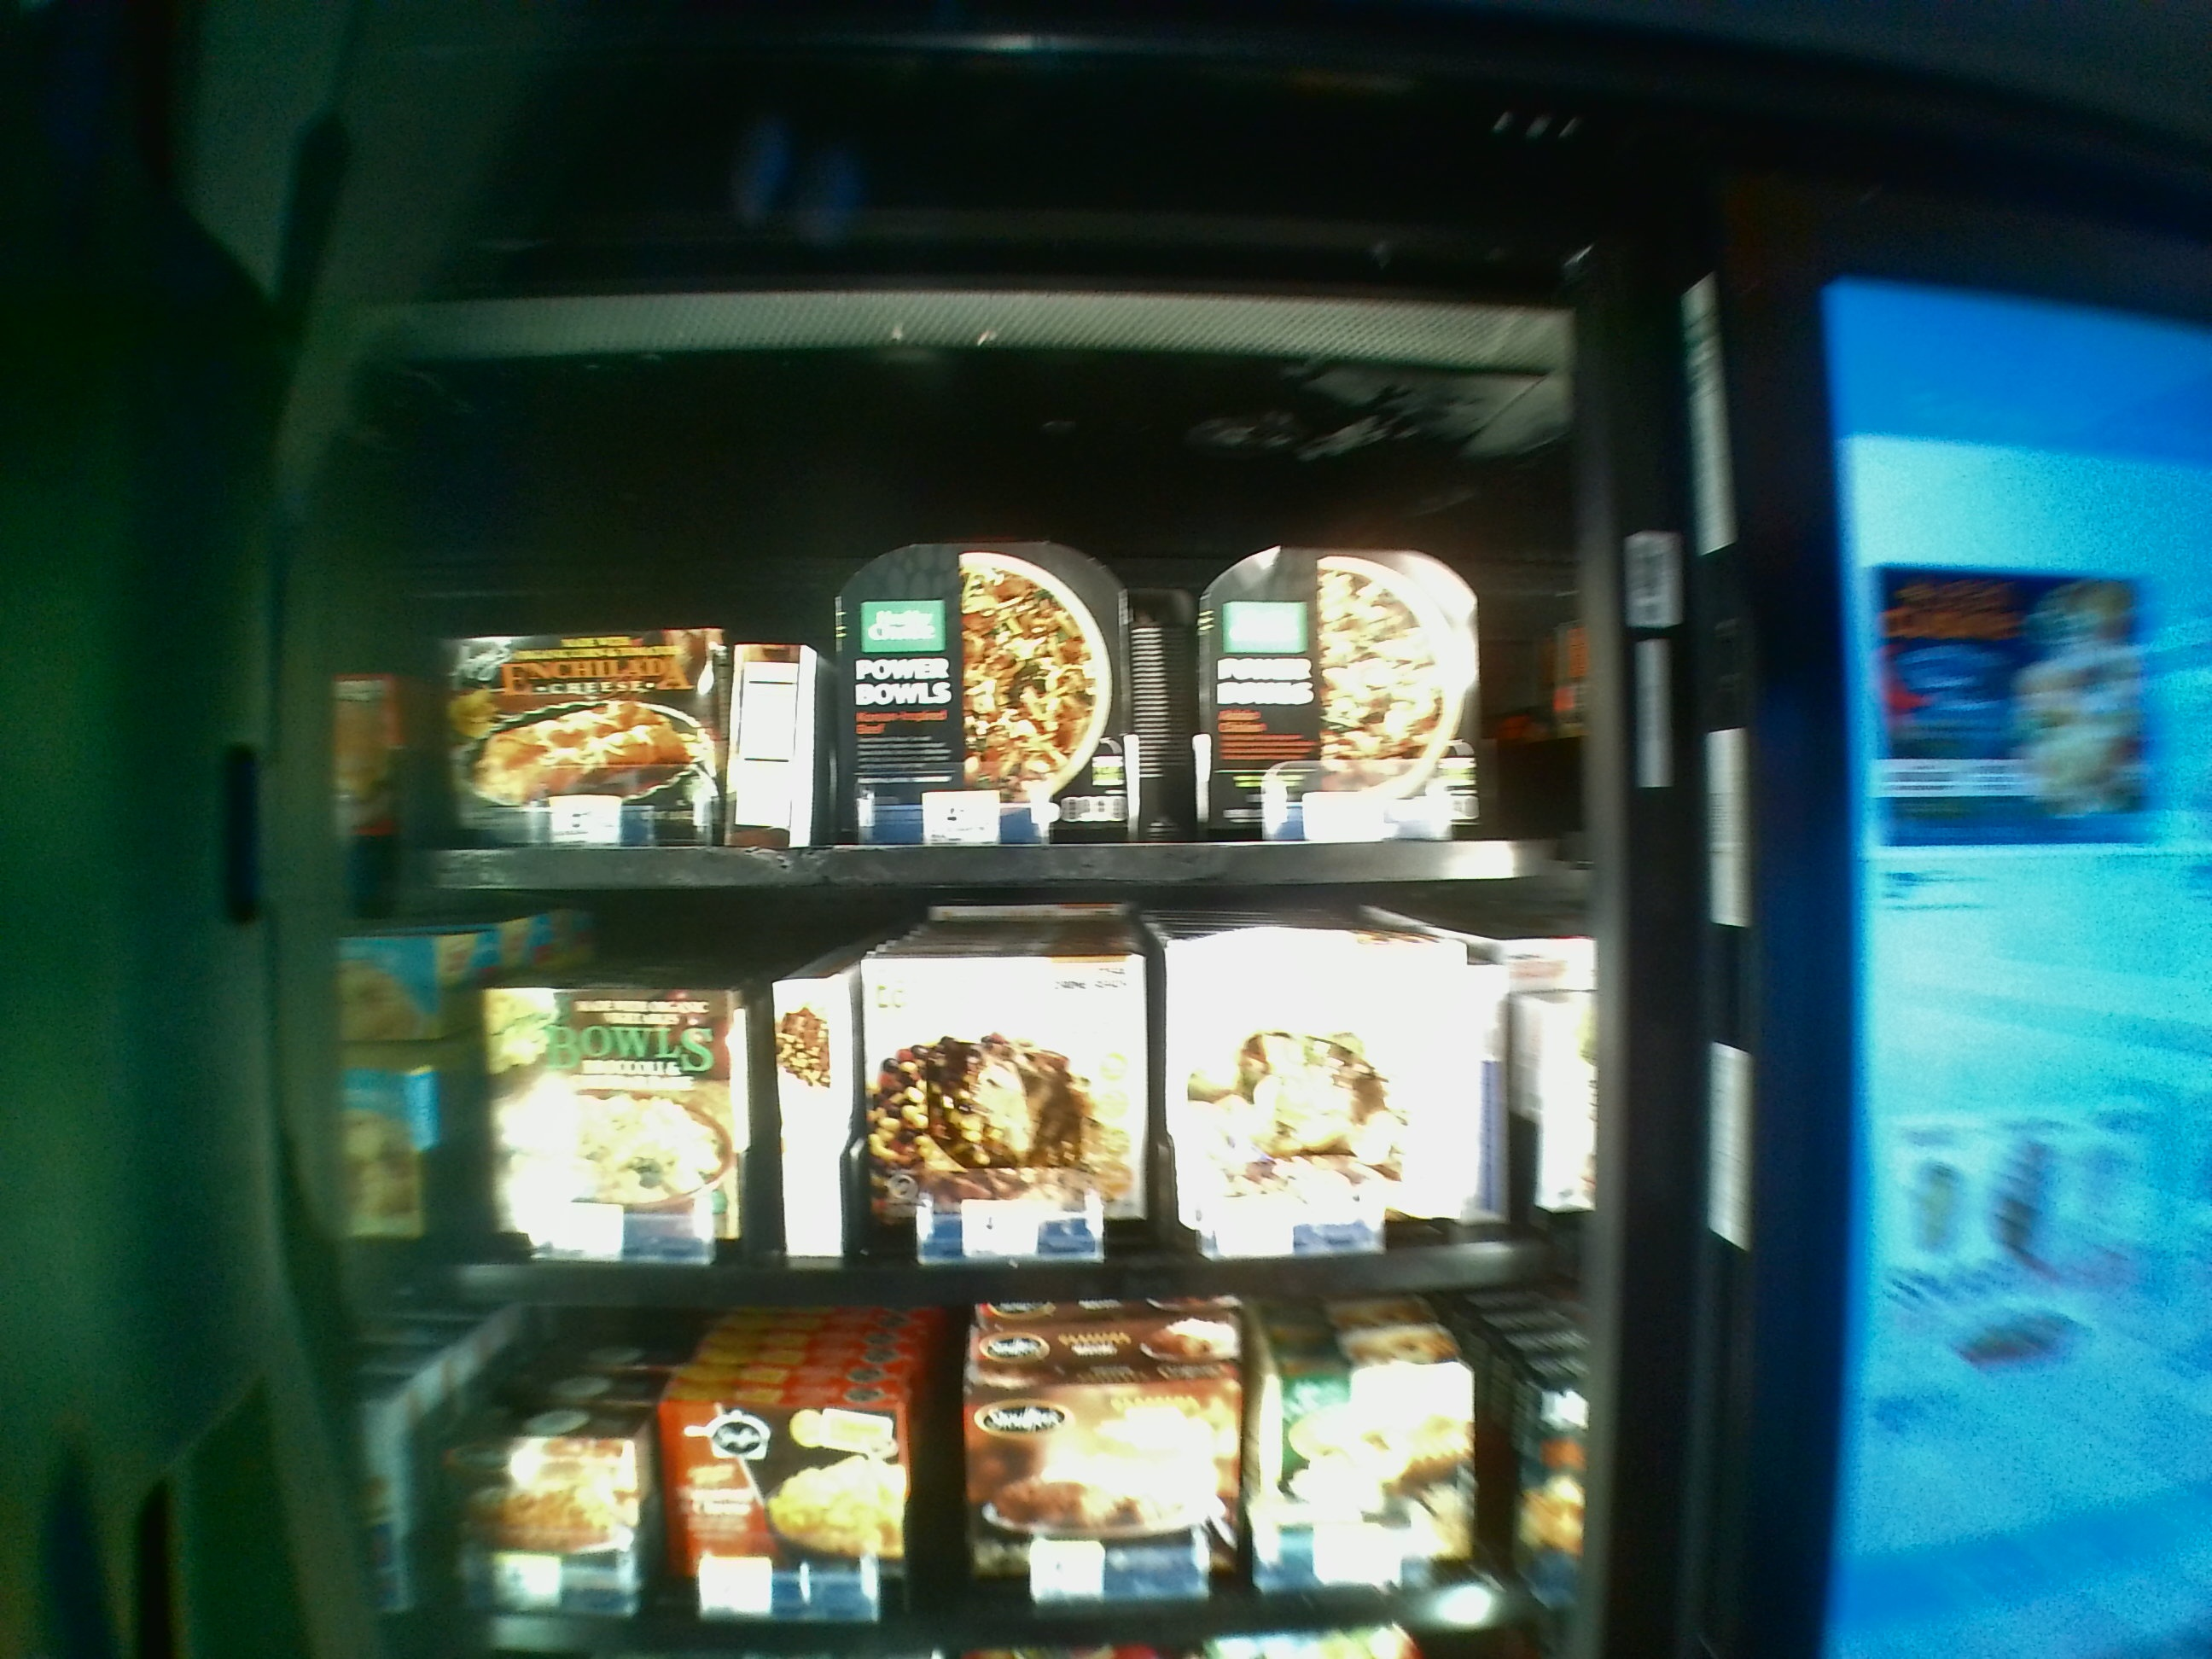shelf: (347, 373, 1571, 892), (343, 908, 1588, 1305)
